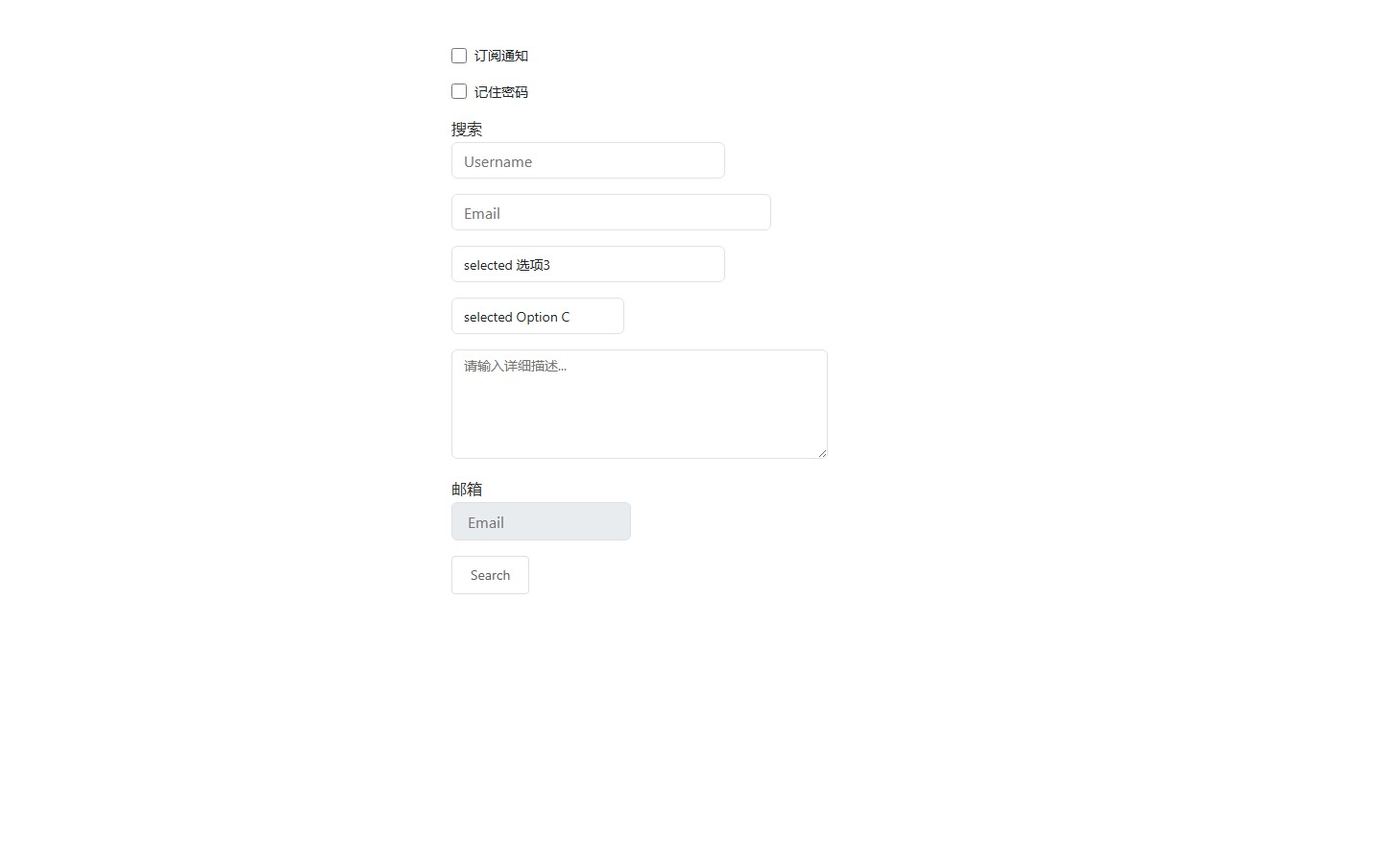button: (451, 556, 529, 594)
checkbox: (451, 48, 467, 63), (451, 84, 467, 99)
icon: (474, 46, 528, 64), (474, 82, 528, 100)
input: (451, 194, 771, 230), (451, 142, 725, 179), (451, 502, 631, 540)
radio: (451, 46, 528, 64), (451, 82, 528, 100)
select: (451, 246, 725, 282), (451, 298, 624, 334)
textarea: (451, 349, 828, 459)
